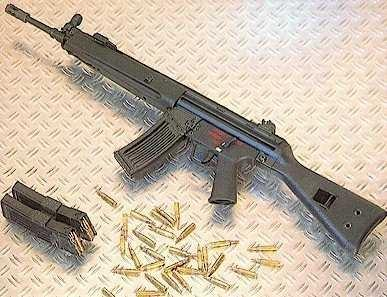heavyweapon: (6, 2, 386, 262)
